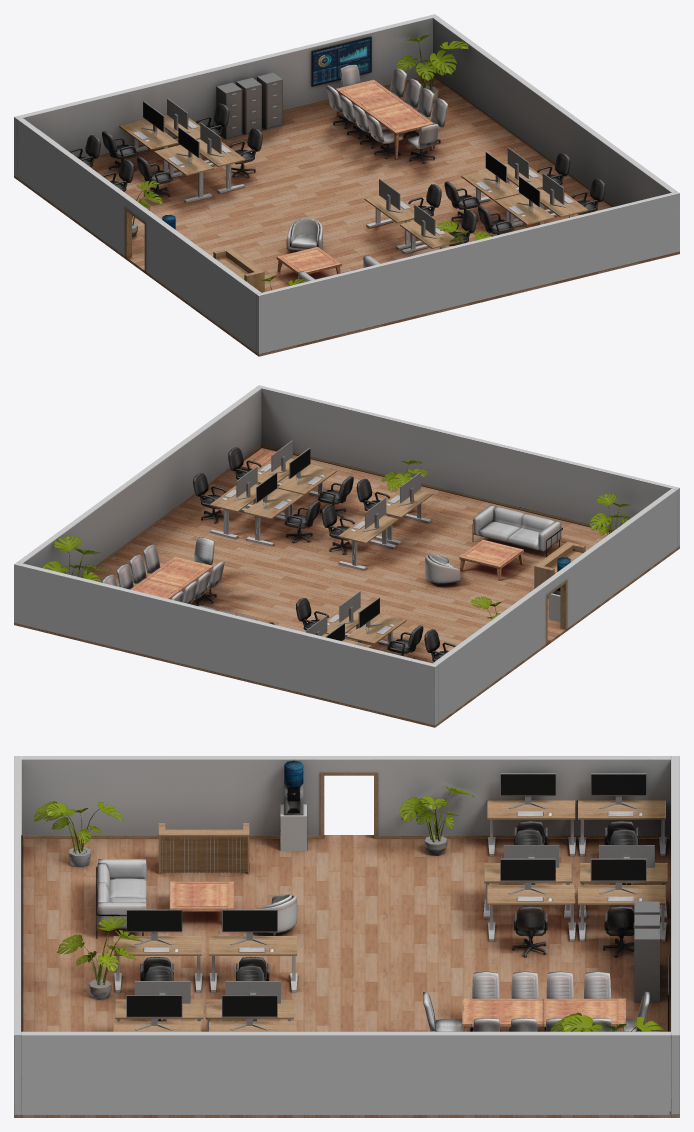
File: room-last.glb
3 views of the same model, one above another, from view 1: azimuth 30°, elevation 25°; view 2: azimuth 150°, elevation 25°; view 3: azimuth 270°, elevation 25° (orthographic). The views are drawn at different scales.
Parts seen in each view (by area): view 1: Last room Wall, last room floor, ultima sala moveis; view 2: Last room Wall, last room floor, ultima sala moveis; view 3: Last room Wall, last room floor, ultima sala moveis.
Boxes of the visible parts, <box> form: Last room Wall: <box>14,14,679,354</box>; last room floor: <box>14,77,679,356</box>; ultima sala moveis: <box>39,34,605,292</box>; Last room Wall: <box>14,385,679,725</box>; last room floor: <box>14,447,679,727</box>; ultima sala moveis: <box>42,440,631,661</box>; Last room Wall: <box>14,756,679,1114</box>; last room floor: <box>14,835,679,1117</box>; ultima sala moveis: <box>33,760,669,1031</box>.
Size of what is drawn, in the model's own units: 30.32 by 4.65 by 30.54.
Materials: 3 (3 with a texture image).
